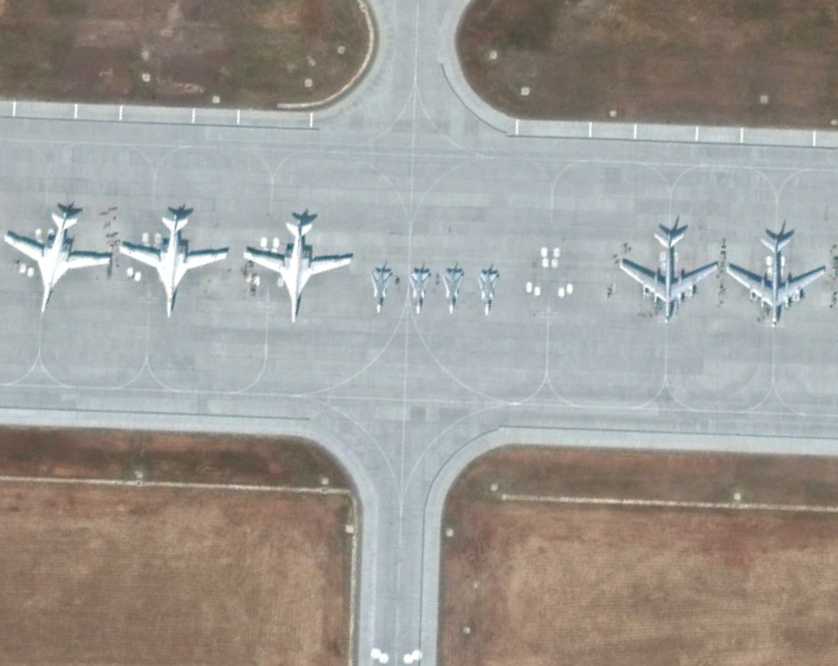A17: (614, 208, 725, 328), (722, 213, 833, 333)
A20: (433, 263, 471, 318), (469, 260, 501, 321), (405, 258, 433, 317), (368, 260, 396, 316)
A6: (241, 200, 354, 326), (119, 193, 231, 320), (2, 187, 114, 314)
